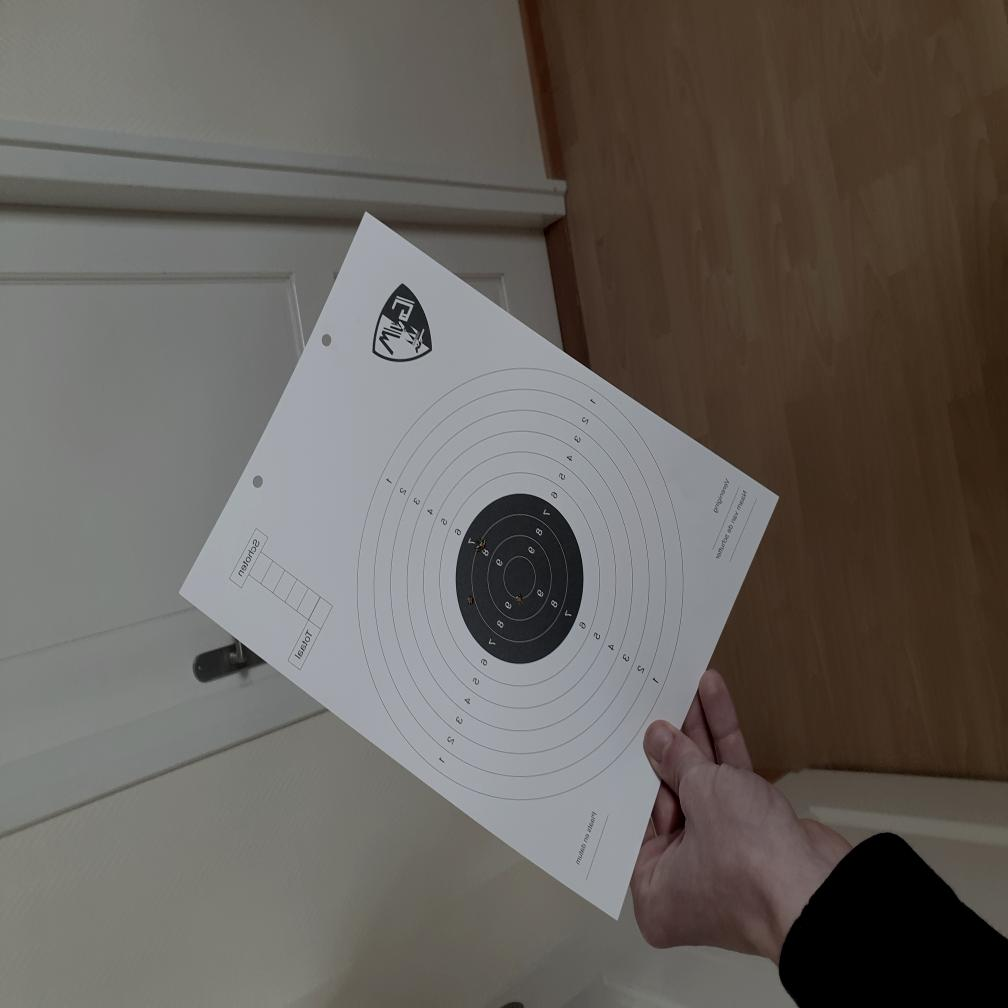10: (514, 593, 523, 606)
7: (467, 596, 475, 606)
8: (473, 537, 488, 553)
Target: (355, 369, 685, 804)
black_contour: (456, 493, 584, 664)
